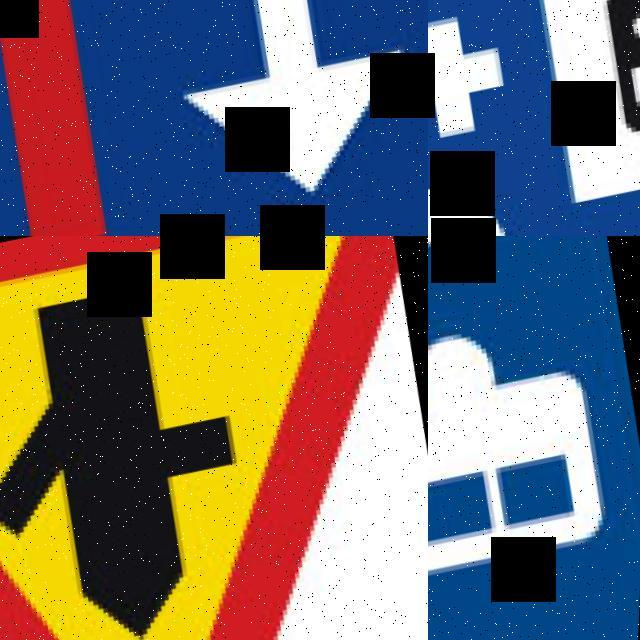166: (0, 236, 428, 640)
60: (428, 0, 640, 236)
Bus stop: (428, 236, 640, 640)
Priority over oncoming vehicles: (0, 0, 428, 236)
